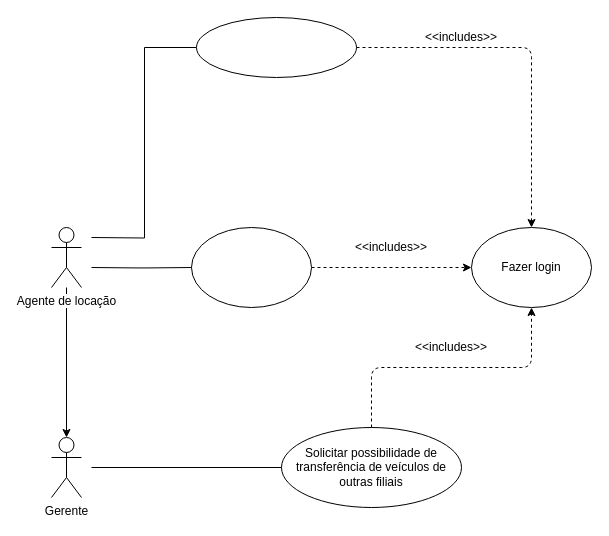
Some shapes in this 609 by 536 pixel diagram are drawn without their labels. Each missing label, with the centre of its shape:
"Fazer cadastro clientes" goes at [276,47].
"Fazer reservas de veículos" goes at [251,267].
